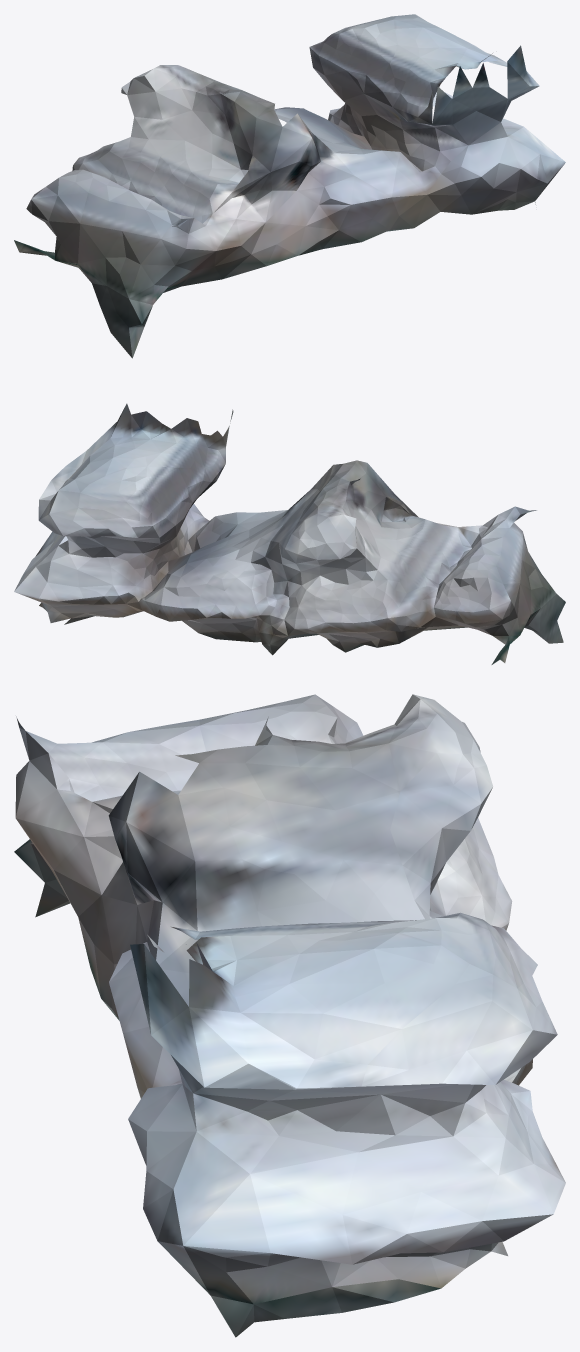
The model's file is styrofoam.glb.
3 renders of one model, top to bottom at view 1: azimuth 30°, elevation 25°; view 2: azimuth 150°, elevation 25°; view 3: azimuth 270°, elevation 25°, orthographic. The views are drawn at different scales.
Visible parts, largest first — view 1: Styrofoam; view 2: Styrofoam; view 3: Styrofoam.
Boxes of the visible parts, left/top/right/bottom form: Styrofoam: left=14, top=14, right=565, bottom=358; Styrofoam: left=14, top=403, right=565, bottom=664; Styrofoam: left=14, top=694, right=565, bottom=1337.
Size of the model in its own units: 0.3148 by 0.1181 by 0.1647.
Materials: 1 (1 with a texture image).
